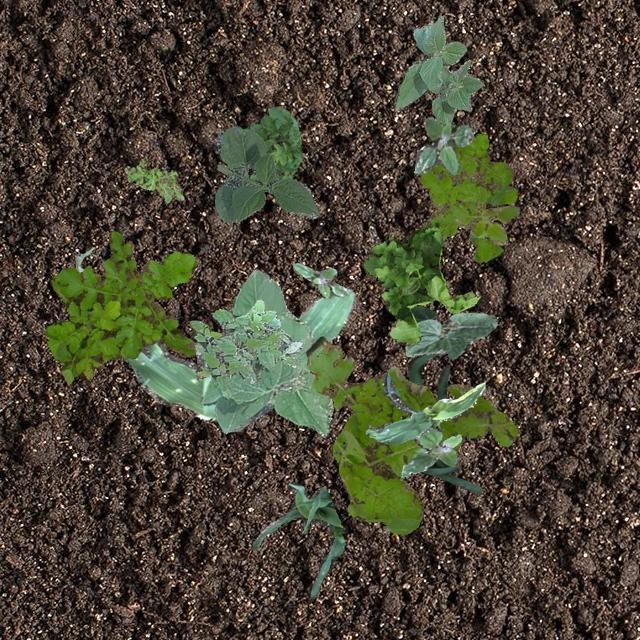crop: (73, 247, 354, 420), (193, 268, 331, 436), (252, 482, 344, 598), (406, 352, 482, 492), (214, 125, 318, 222), (394, 15, 482, 124), (364, 372, 484, 444), (404, 304, 496, 358)
weed: (306, 336, 520, 534), (44, 230, 194, 384), (361, 222, 478, 344), (418, 132, 516, 262), (188, 298, 302, 398), (230, 106, 302, 180), (452, 186, 518, 244), (412, 115, 472, 173), (400, 419, 460, 476), (124, 158, 182, 202), (292, 262, 348, 296)
